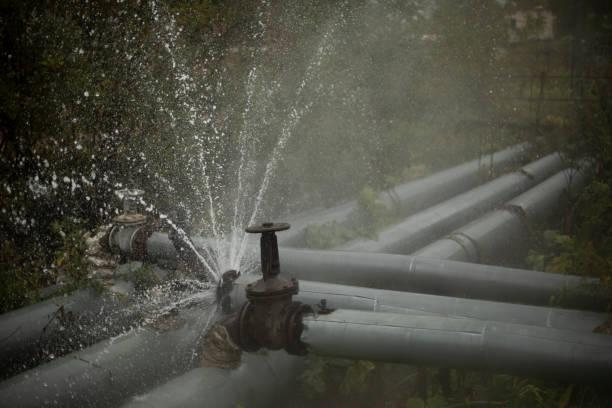pipe burst: (25, 0, 353, 369)
